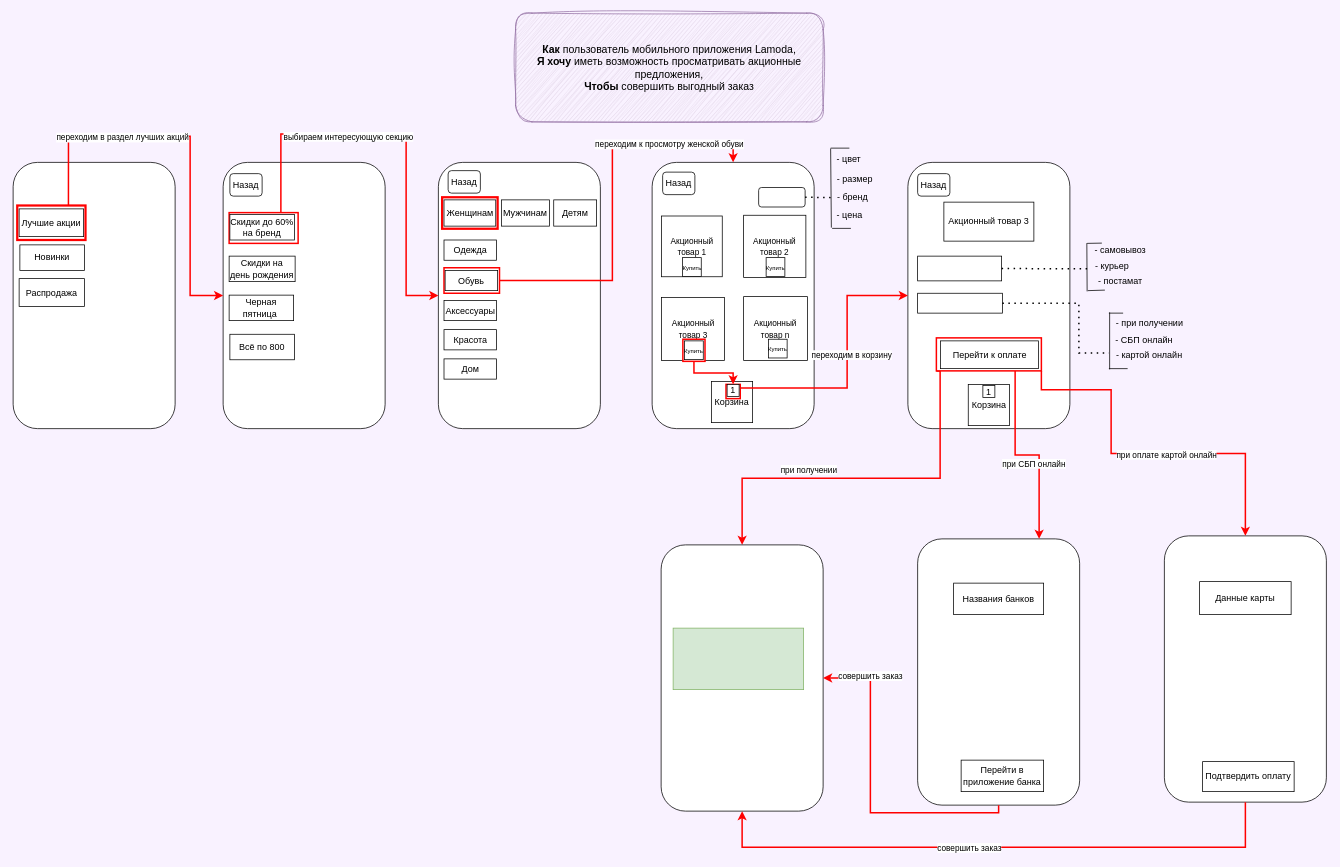
The diagram is 1340 pixels wide and 867 high, and some of its shapes have lost their labels. Here are the shapes that lost their labels. From the top down, the centre of each, then its label:
At point (781, 197): "Фильтр".
At point (959, 268): "Способ и адрес доставки".
At point (959, 302): "Способ оплаты".
At point (738, 658): "Готово! Ждите получения заказа!".
